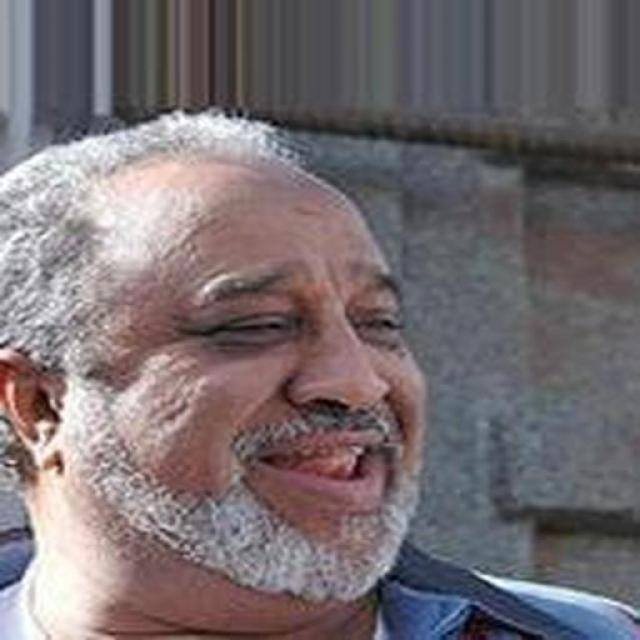bareface: (1, 120, 430, 602)
